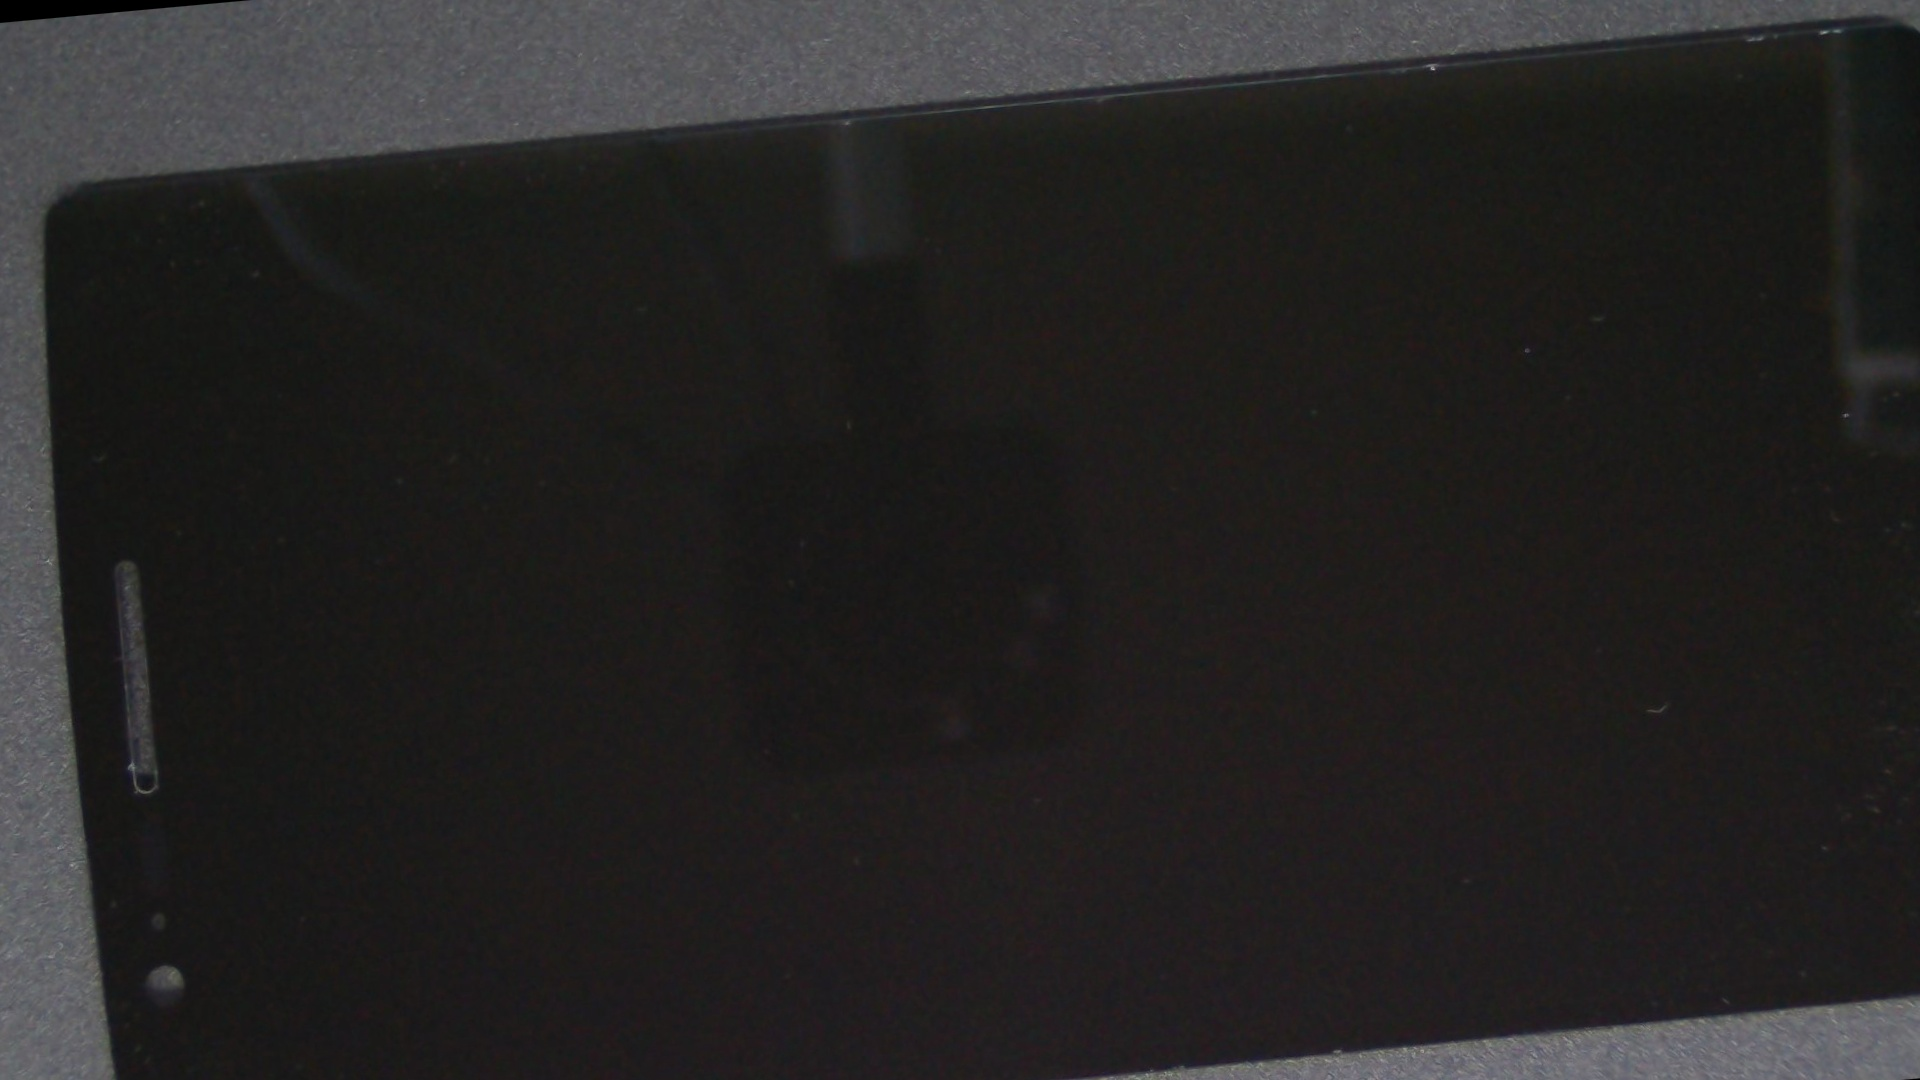oil: (905, 203, 1920, 1035)
